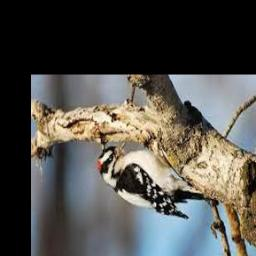Woodpecker: (98, 140, 219, 218)
